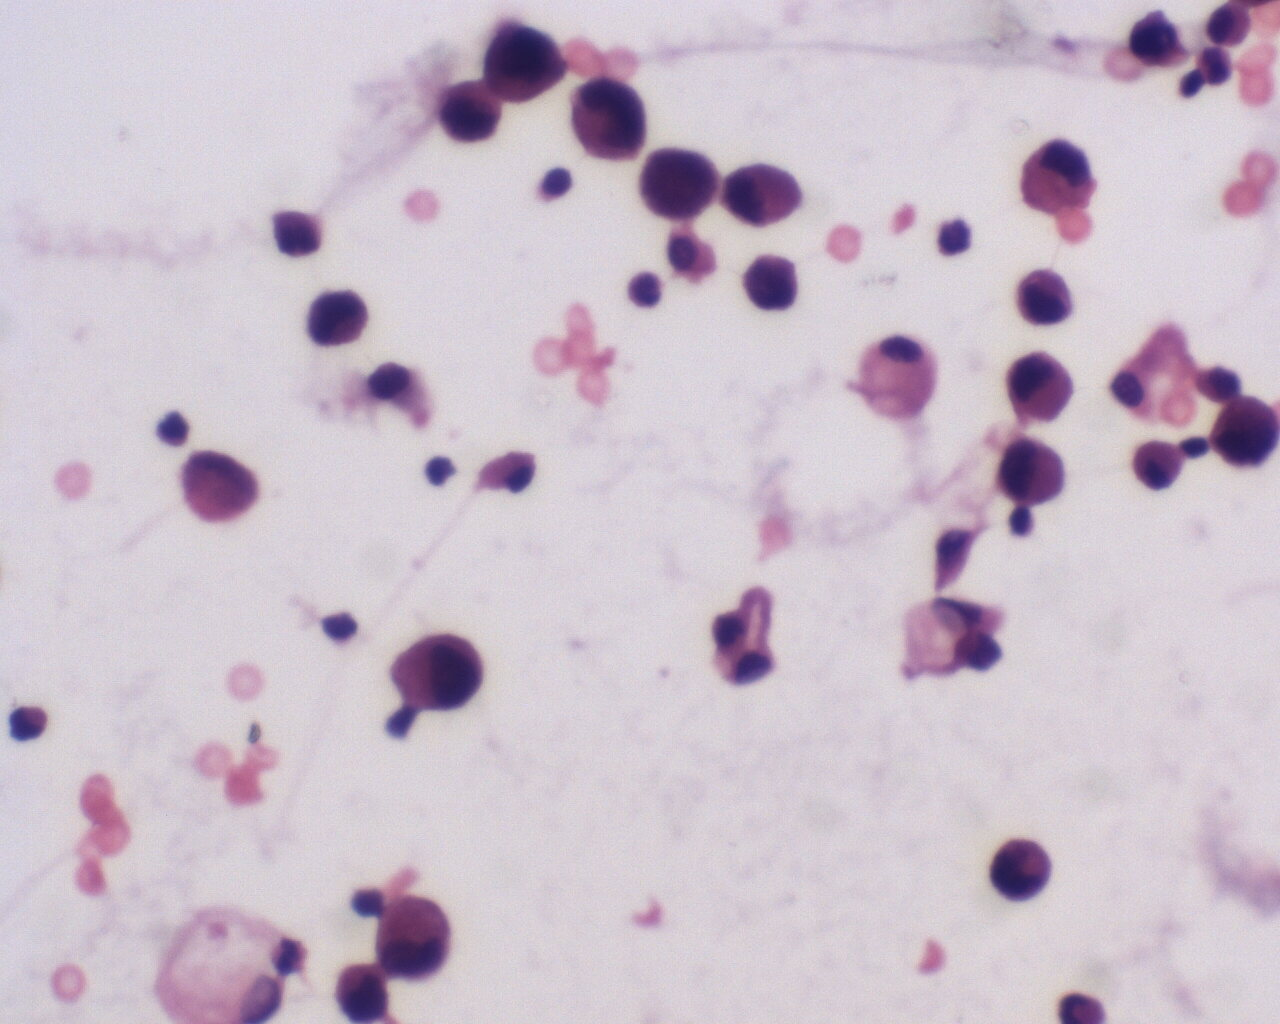ab: (383, 633, 489, 714), (484, 18, 569, 107), (567, 76, 651, 164), (369, 892, 455, 976), (1017, 132, 1097, 217), (636, 144, 724, 223), (994, 433, 1075, 508), (1002, 347, 1080, 423), (1209, 397, 1280, 469), (987, 834, 1056, 905), (738, 246, 804, 313), (435, 75, 501, 143), (1013, 267, 1080, 331), (307, 283, 368, 353), (330, 959, 394, 1024)
histo: (145, 899, 288, 1024), (856, 325, 944, 423)
neutro: (9, 697, 51, 751)
